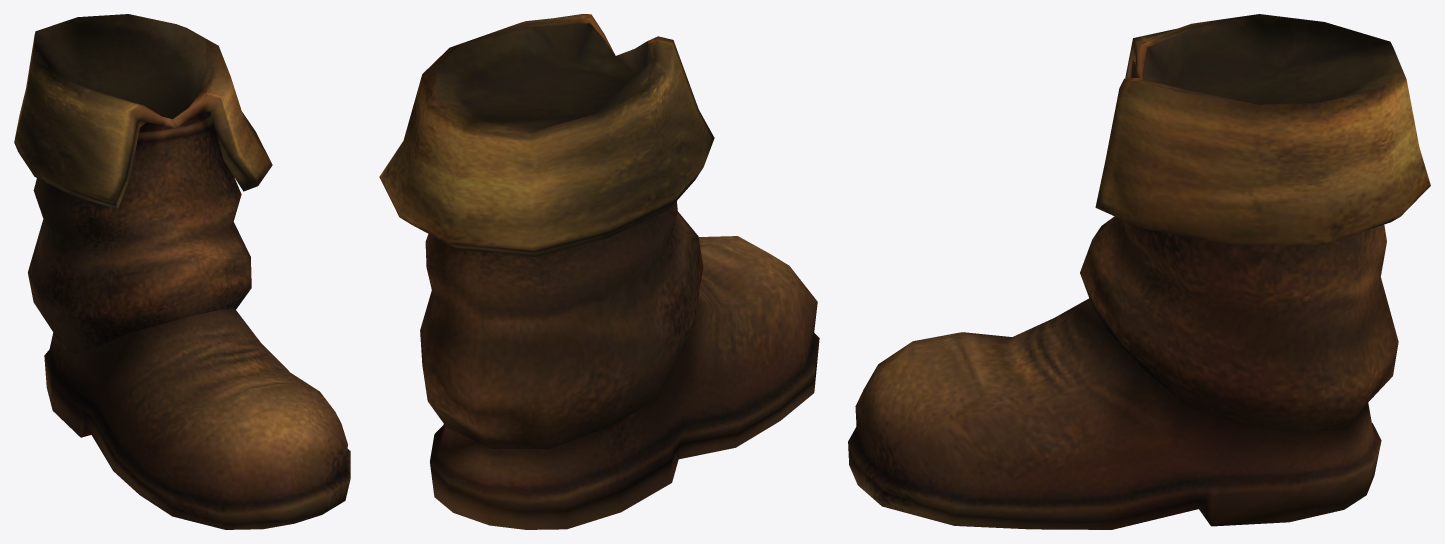
Rendered from boot.fbx.
3 renders of one model, left to right at view 1: azimuth 30°, elevation 25°; view 2: azimuth 150°, elevation 25°; view 3: azimuth 270°, elevation 25°, orthographic. The views are drawn at different scales.
Parts seen in each view (by area): view 1: model.001; view 2: model.001; view 3: model.001.
Boxes of the visible parts, bbox=[...] form: model.001: bbox=[14, 14, 350, 529]; model.001: bbox=[379, 14, 819, 529]; model.001: bbox=[848, 14, 1430, 529].
Size of the model in its own units: 276 by 416 by 529.
